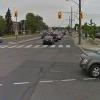Crosswalk: (6, 39, 74, 55)
